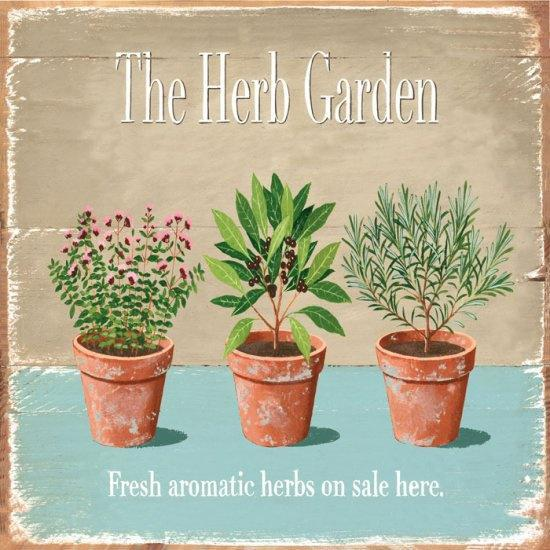pottedplant: (189, 168, 343, 455), (339, 178, 502, 446), (39, 201, 195, 450)
